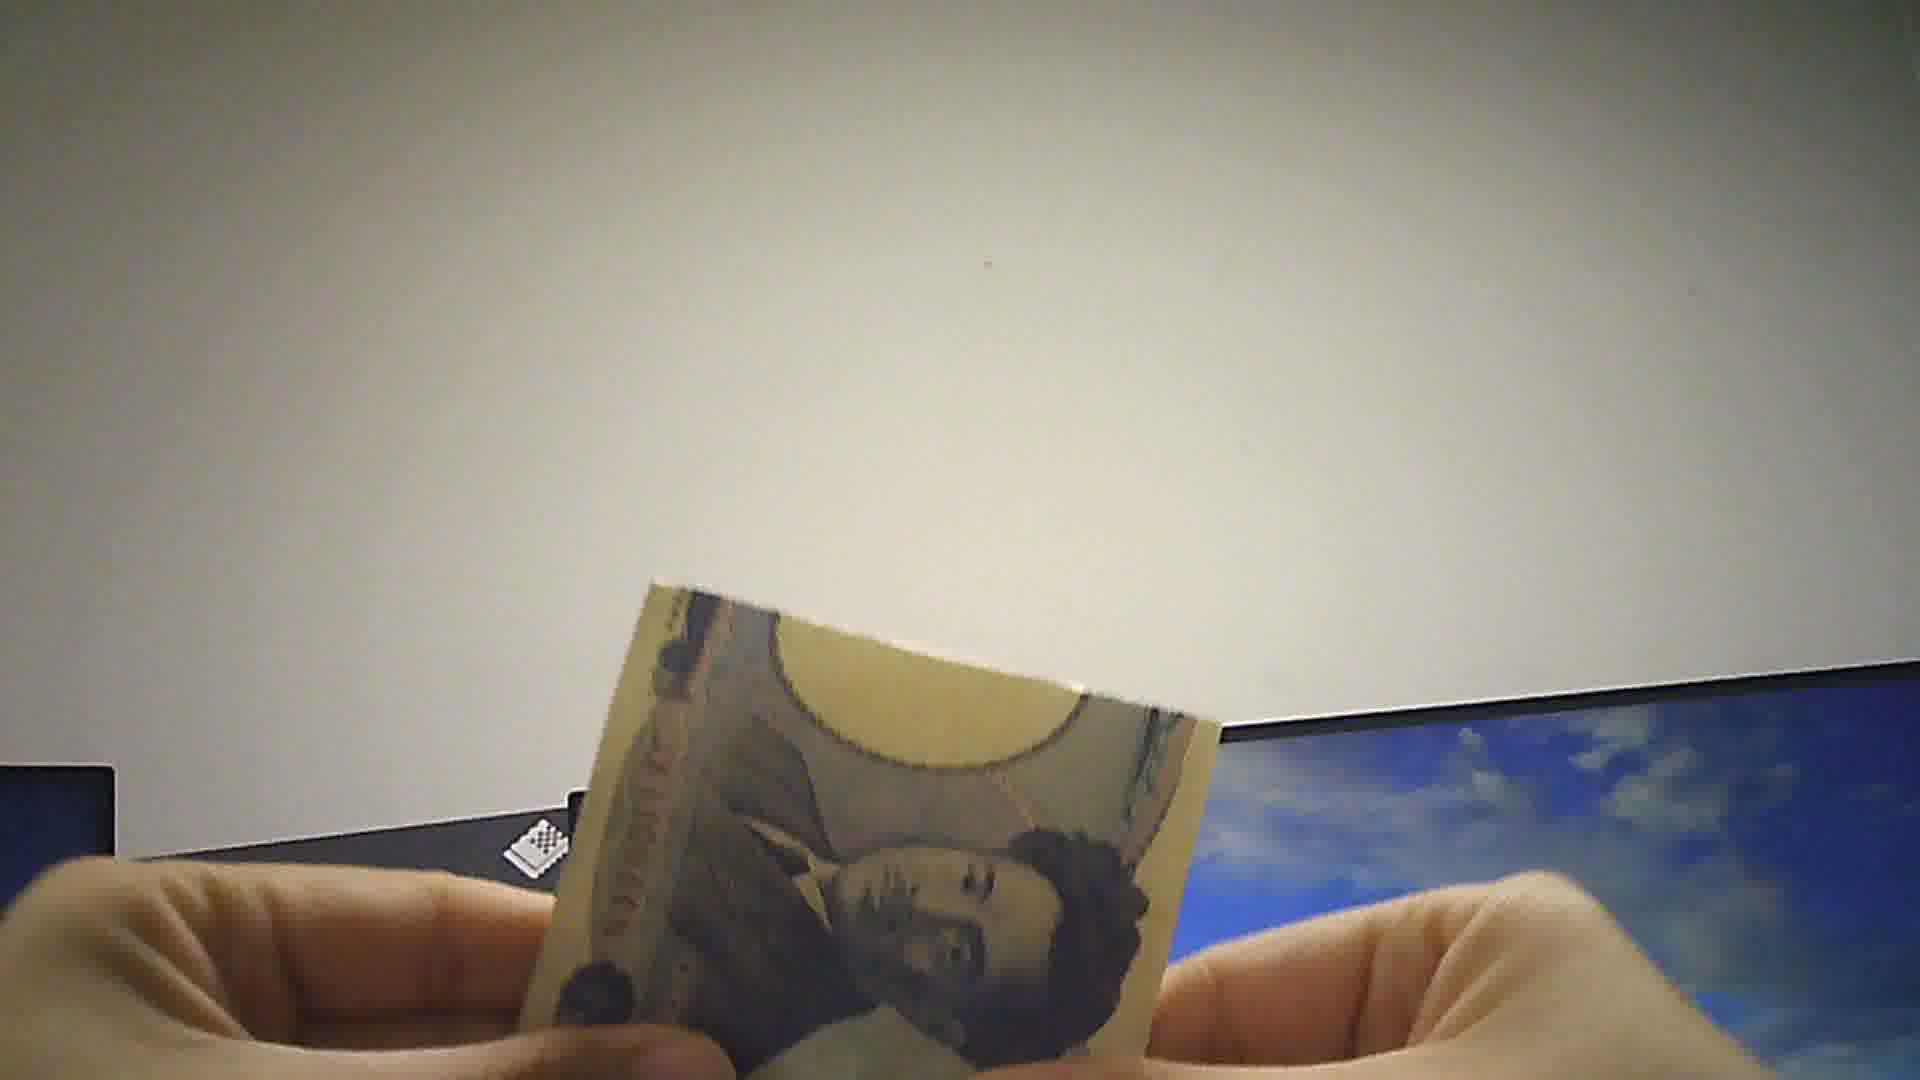1,000 Yen: (521, 571, 1207, 1079)
